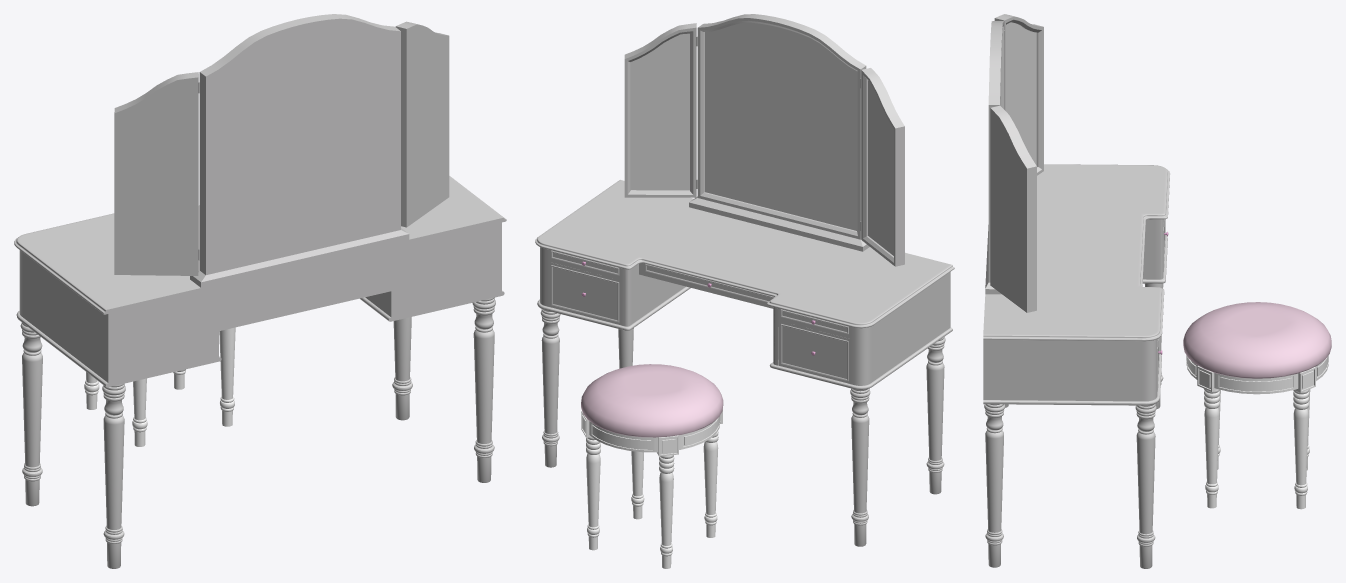
The model's file is dressingTable.gltf.
The picture shows the model from 3 angles, left to right: view 1: azimuth 30°, elevation 25°; view 2: azimuth 150°, elevation 25°; view 3: azimuth 270°, elevation 25°; orthographic projection. The views are drawn at different scales.
Visible parts, largest first — view 1: Mirror_5_14, Dressing Table_0_3, Legs_2_8, Stool_1_5; view 2: Mirror_5_14, Dressing Table_0_3, Stool_1_5, Legs_2_8, Drawer.002_4_12, Drawer.001_3_10, Drawer.003_6_18; view 3: Dressing Table_0_3, Mirror_5_14, Stool_1_5, Legs_2_8.
Boxes of the visible parts, box(x1,y1,x2,y2) form: Mirror_5_14: box(114, 14, 449, 287); Dressing Table_0_3: box(14, 176, 506, 387); Legs_2_8: box(20, 297, 495, 568); Stool_1_5: box(84, 327, 235, 446); Mirror_5_14: box(624, 14, 904, 266); Dressing Table_0_3: box(535, 180, 954, 389); Stool_1_5: box(581, 364, 723, 568); Legs_2_8: box(540, 309, 945, 546); Drawer.002_4_12: box(549, 262, 850, 384); Drawer.001_3_10: box(549, 250, 850, 336); Drawer.003_6_18: box(642, 263, 774, 304); Dressing Table_0_3: box(983, 164, 1169, 405); Mirror_5_14: box(985, 14, 1043, 312); Stool_1_5: box(1183, 302, 1331, 509); Legs_2_8: box(984, 283, 1163, 568).
Bounding box in the file's own units: 1.16 × 1.38 × 0.9729.
